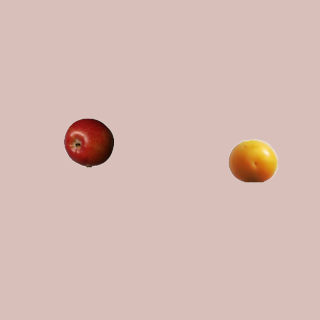Apple Braeburn: (63, 117, 113, 167)
Cherry Wax Yellow: (227, 135, 277, 185)
